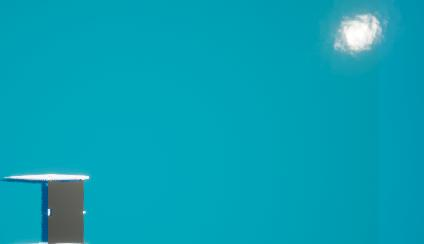boat: (0, 170, 94, 244)
drone: (49, 182, 84, 244)
land_base: (311, 0, 405, 69)
